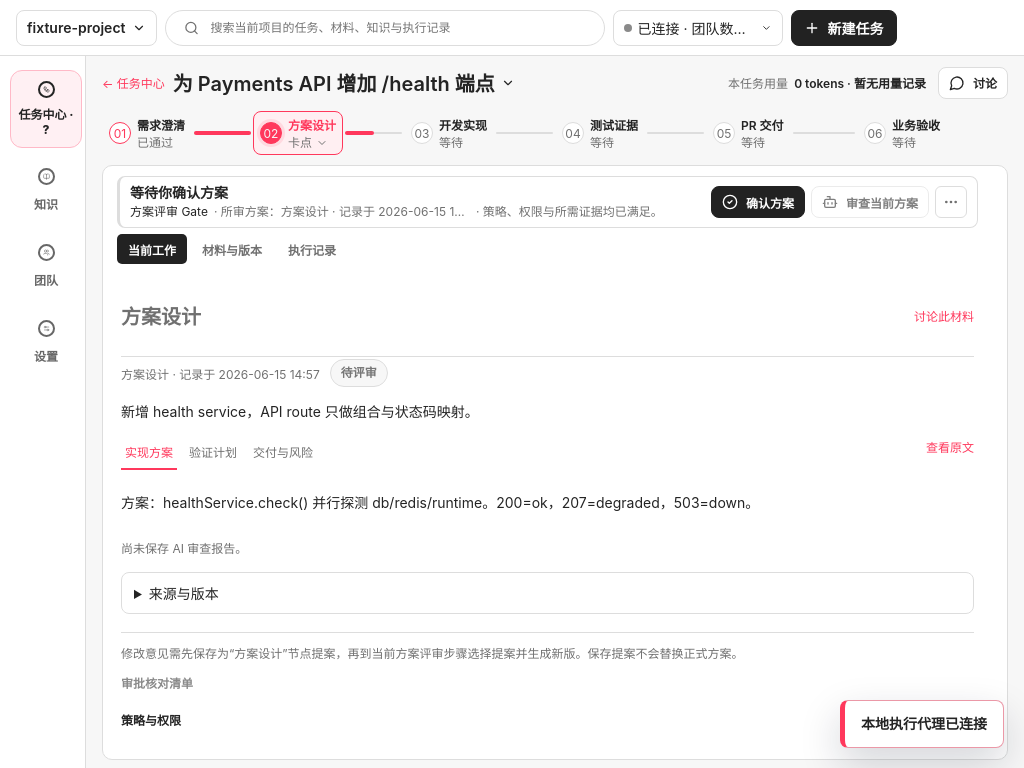
Test case: App › loads the Work Request Inbox only for the selected paired local project
Step 1. Click the button "任务中心 · ?" → (46, 109), box [10, 70, 82, 148]
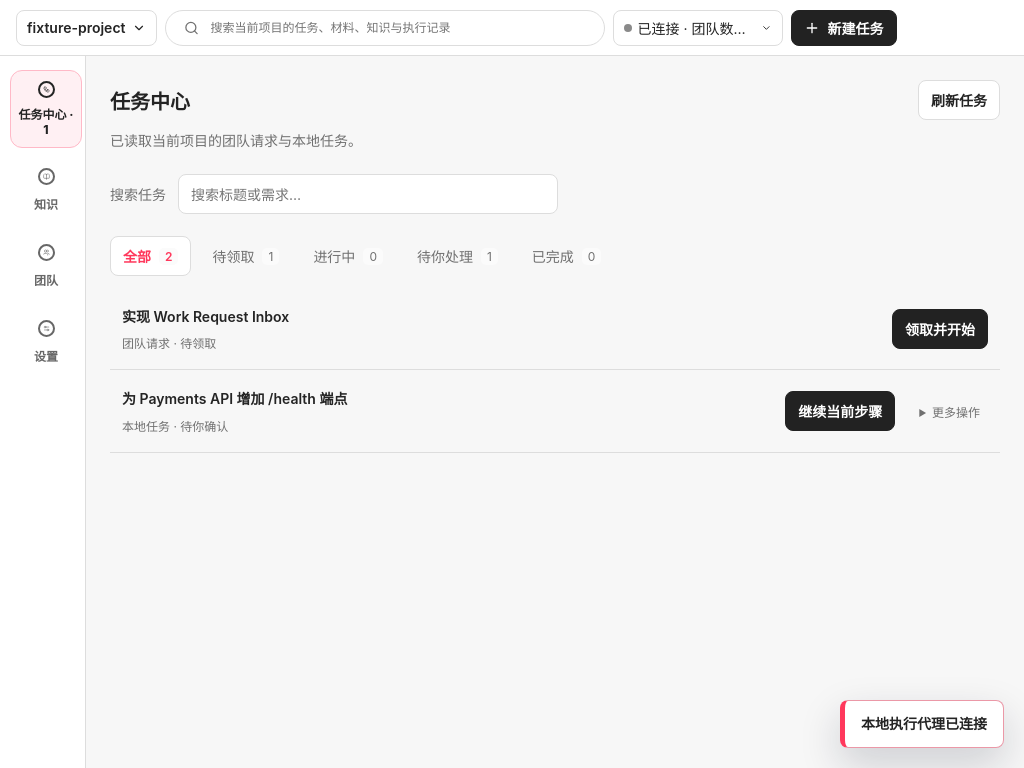
Check: the button "实现 Work Request Inbox" is shown, box [122, 306, 289, 328]
Check: the element "任务中心" is shown, box [110, 80, 1000, 453]
